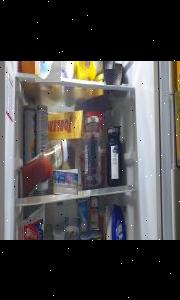Aguacate: (104, 60, 122, 84), (103, 60, 115, 68)
Yogur: (90, 196, 99, 230)
